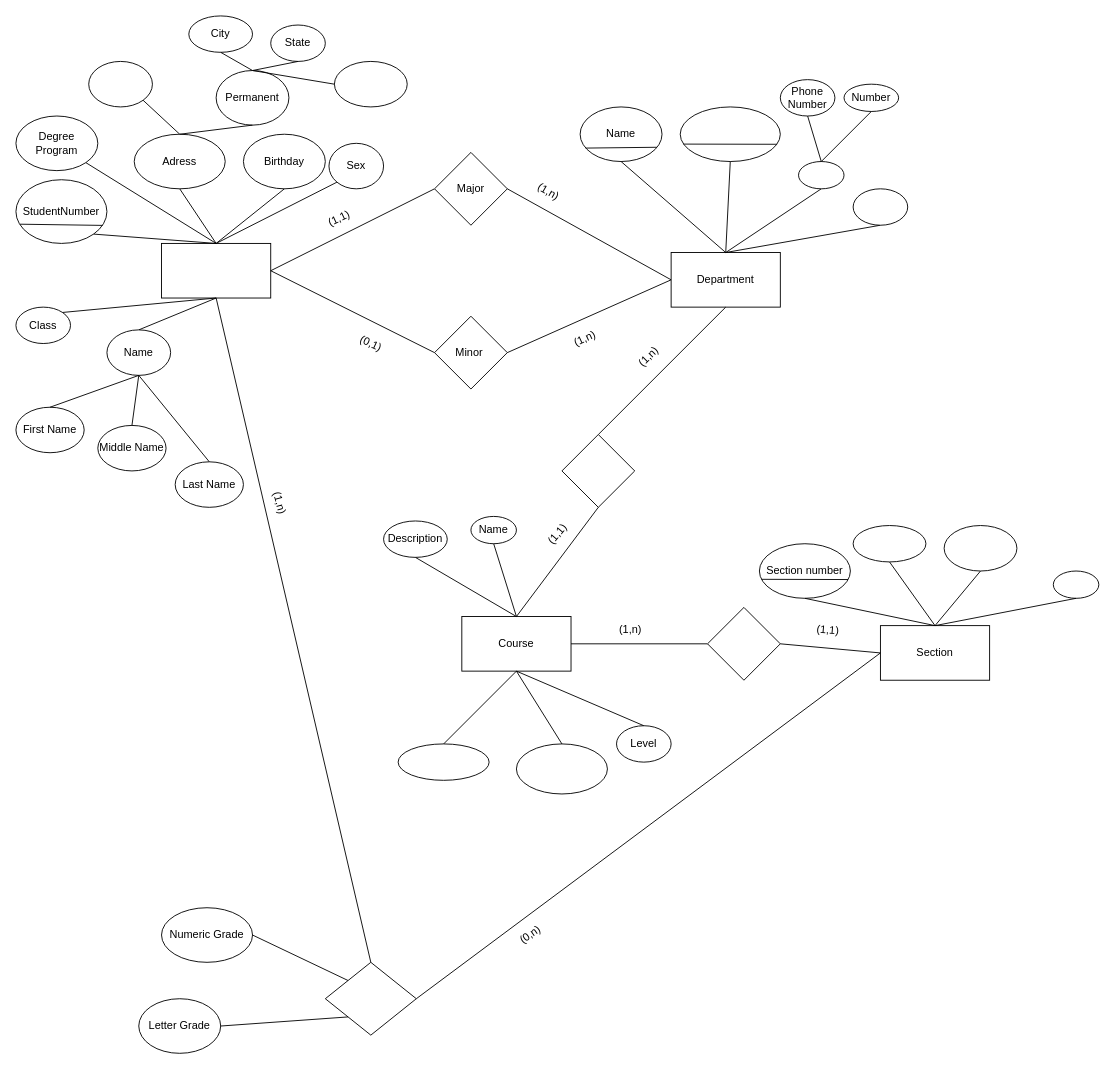
This 1115x1069 diagram has some shape labels left out. Here are the shapes that lost their labels. From the top down, the centre of each, then its label:
point (120, 84): Current
point (370, 84): Zip Code
point (729, 134): Department code
point (821, 175): Office
point (880, 206): College
point (216, 270): Student
point (598, 470): Offers
point (889, 543): Instructor
point (980, 548): Semester
point (1075, 584): Year
point (743, 643): Has
point (443, 761): Course Number
point (561, 768): Number of Semester Hours
point (370, 998): Studies
